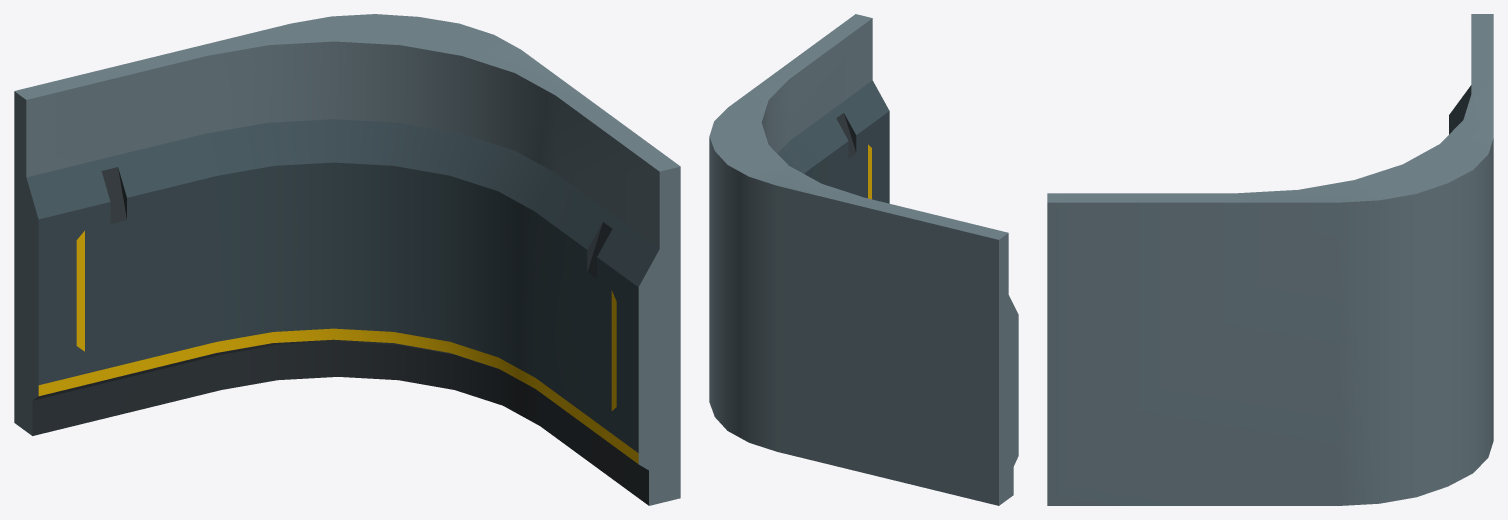
The model's file is Wall_type_C_044.glb.
3 views of the same model, side by side, from view 1: azimuth 30°, elevation 25°; view 2: azimuth 150°, elevation 25°; view 3: azimuth 270°, elevation 25° (orthographic). The views are drawn at different scales.
Parts seen in each view (by area): view 1: Wall_type_C_044; view 2: Wall_type_C_044; view 3: Wall_type_C_044.
Boxes of the visible parts, bbox=[...] form: Wall_type_C_044: bbox=[14, 14, 680, 505]; Wall_type_C_044: bbox=[709, 14, 1018, 505]; Wall_type_C_044: bbox=[1047, 14, 1493, 505].
Bounding box in the file's own units: 2 × 1.5 × 2.
Materials: 1 (1 with a texture image).
